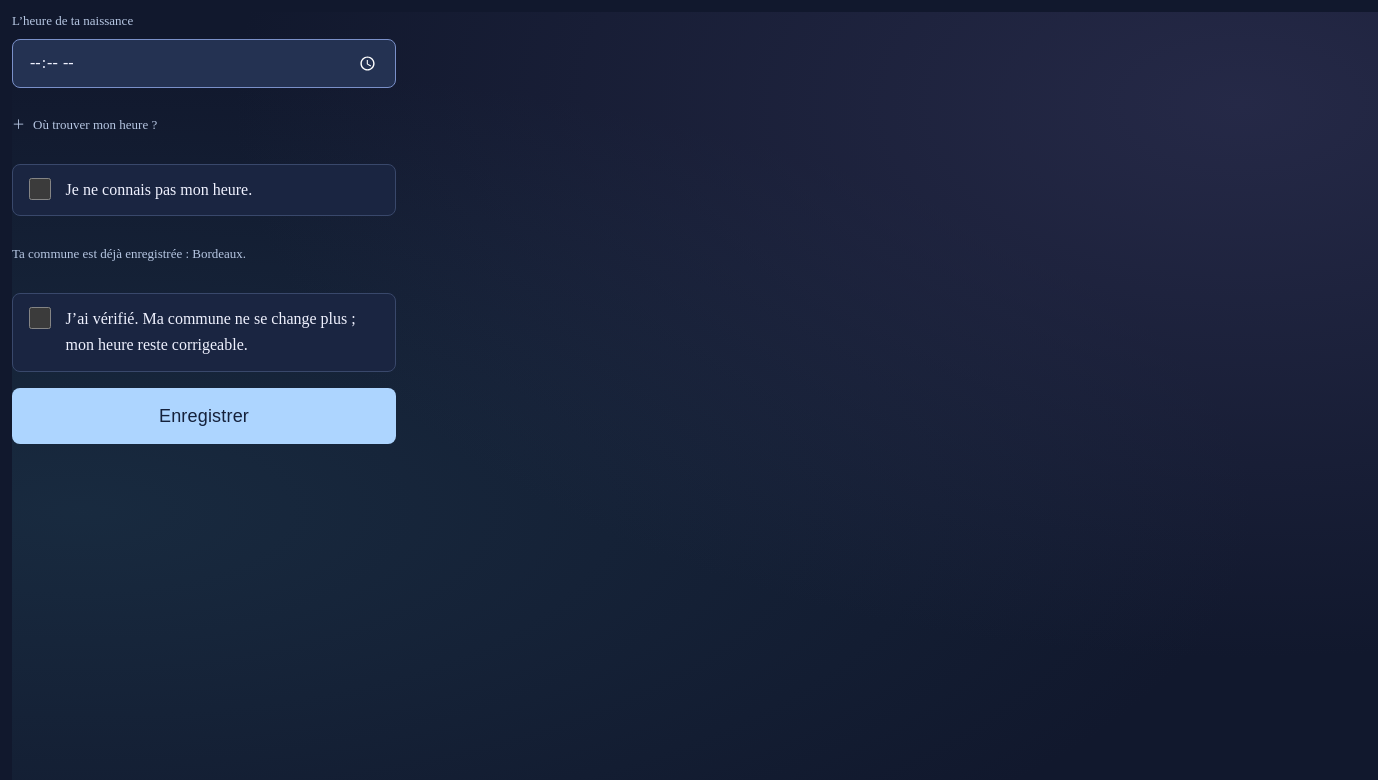
Test: [revue 2026-09-02] commune gravée, heure manquante, « je ne connais pas mon heure » : rien à écrire › [LE CŒUR] le bouton se ferme et le motif le dit AVANT l'envoi
Expected: the button "Enregistrer" is enabled, left=12, top=388, right=396, bottom=444
Click the checkbox labelled "Je ne connais pas mon heure." at (40, 189), box left=29, top=178, right=51, bottom=200
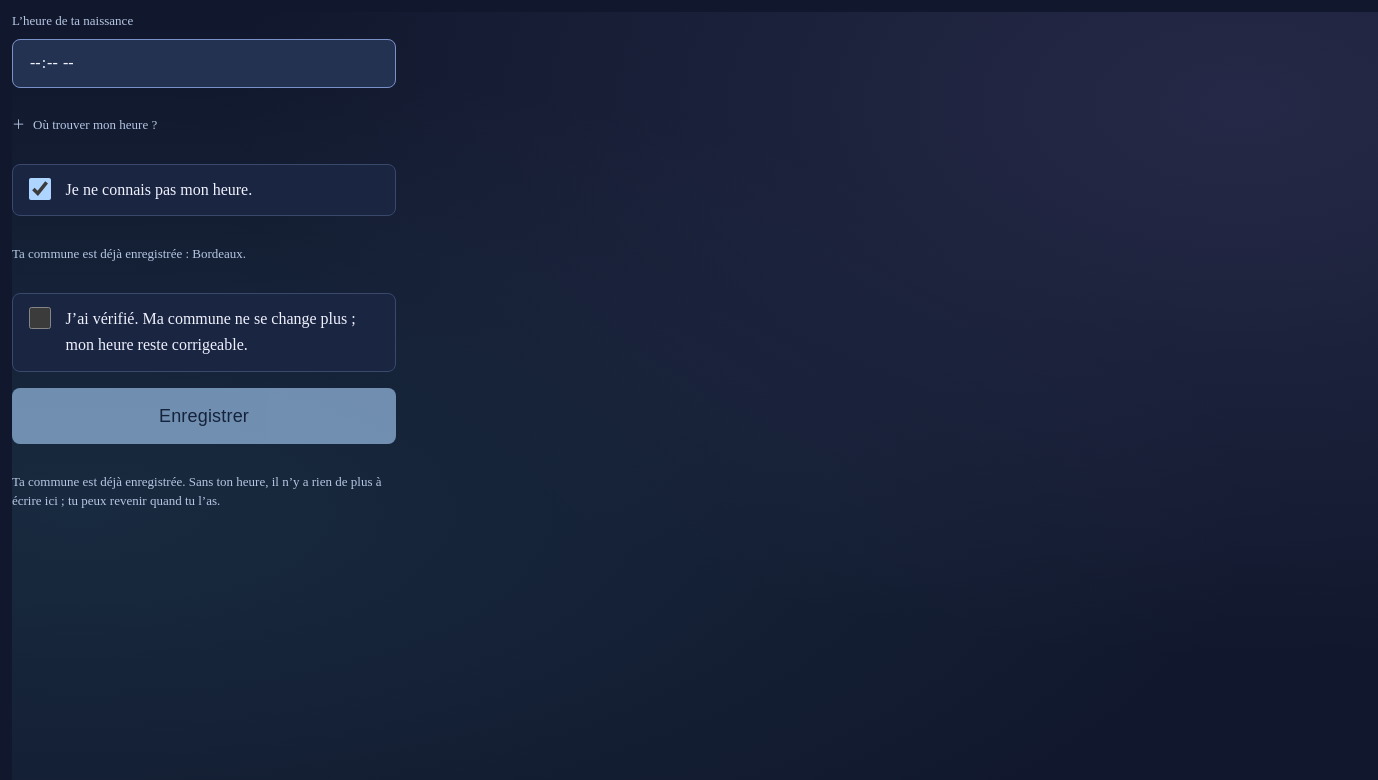
Expected: the button "Enregistrer" is disabled, left=12, top=388, right=396, bottom=444
Expected: the text "rien de plus à écrire ici" shows "Ta commune est déjà enregistrée", left=12, top=474, right=382, bottom=508
# Décocher rouvre : la case n'est pas un piège.
Click the checkbox labelled "Je ne connais pas mon heure." at (40, 189), box left=29, top=178, right=51, bottom=200
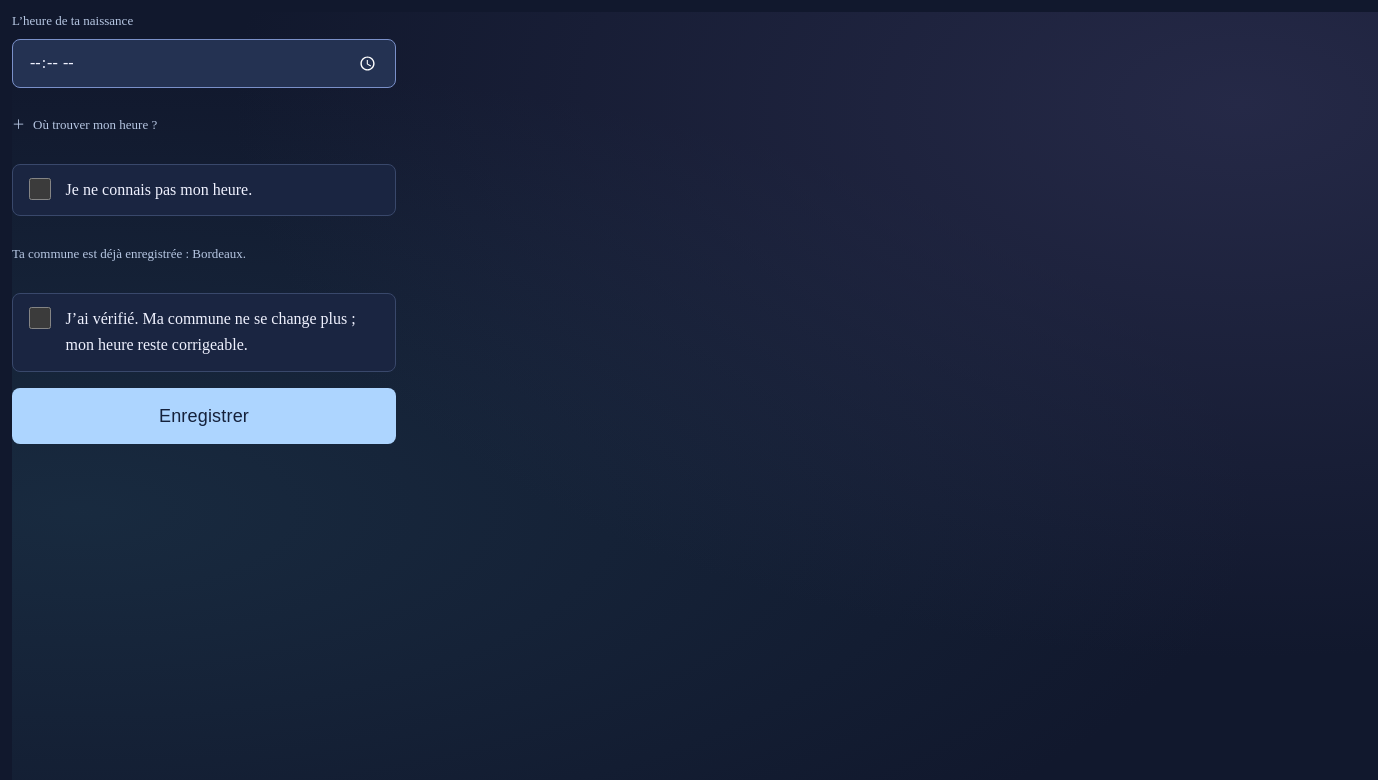
Expected: the button "Enregistrer" is enabled, left=12, top=388, right=396, bottom=444
